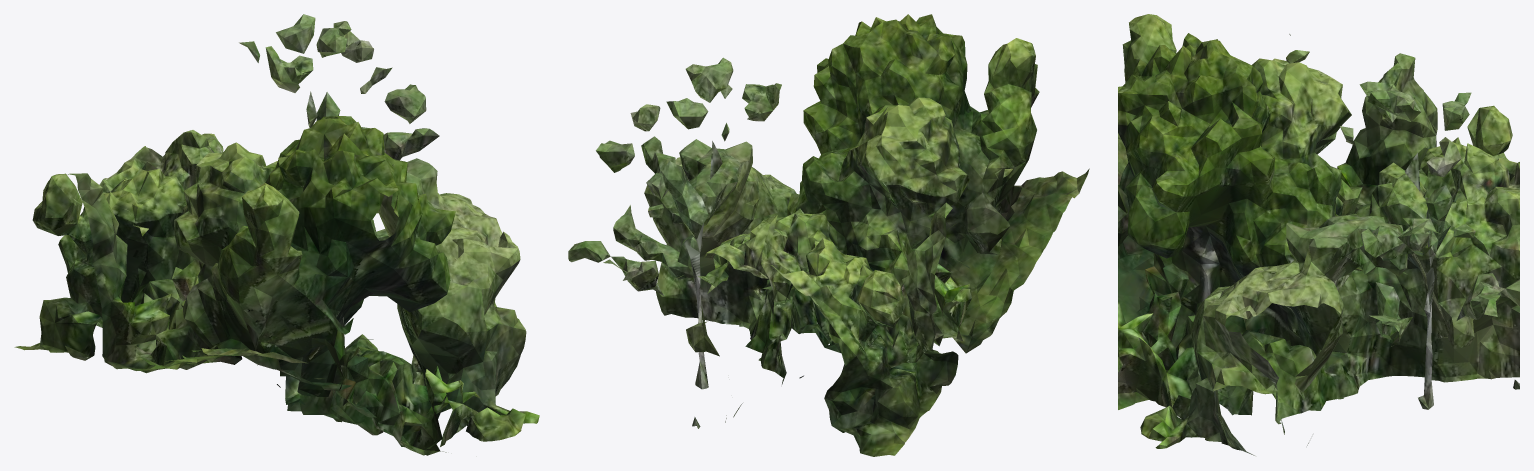
3 renders of one model, left to right at view 1: azimuth 30°, elevation 25°; view 2: azimuth 150°, elevation 25°; view 3: azimuth 270°, elevation 25°, orthographic. The views are drawn at different scales.
Size of the model in its own units: 26.11 by 23.05 by 26.11.
9 materials, 9 textured.
